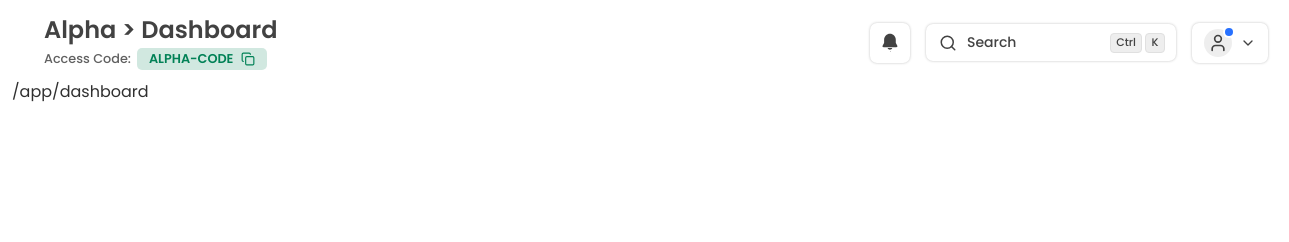
Test case: Header › returns focus to the profile button after "View class as student" closes the menu
Step 1. Click the button named "Profile menu" → (1230, 43), box [1192,23,1268,63]
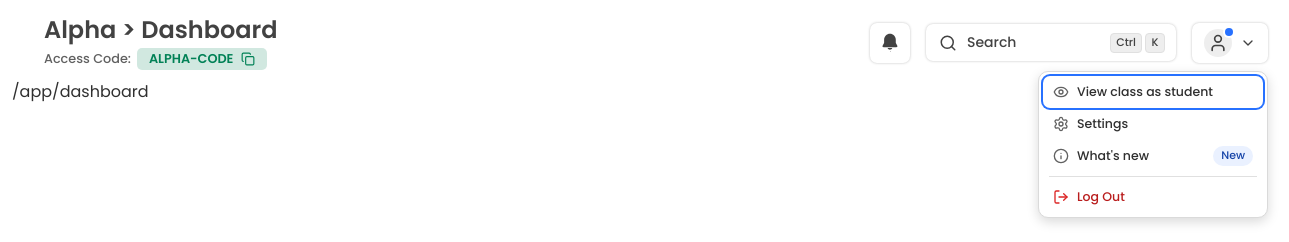
Step 2. Click the menu item "View class as student" → (1153, 92), box [1043,76,1263,108]
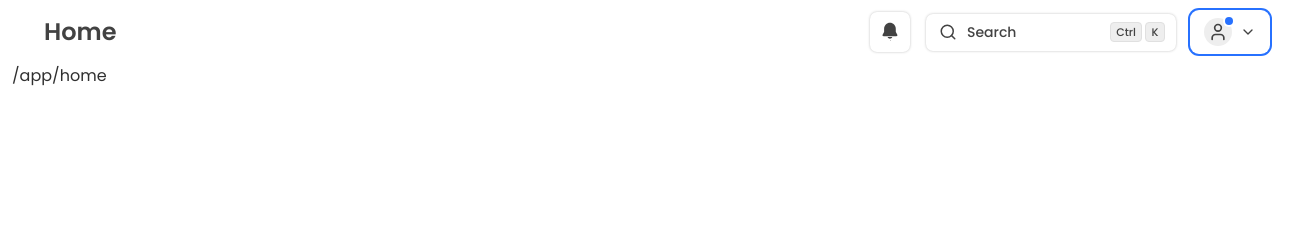
Check: the menu is gone
